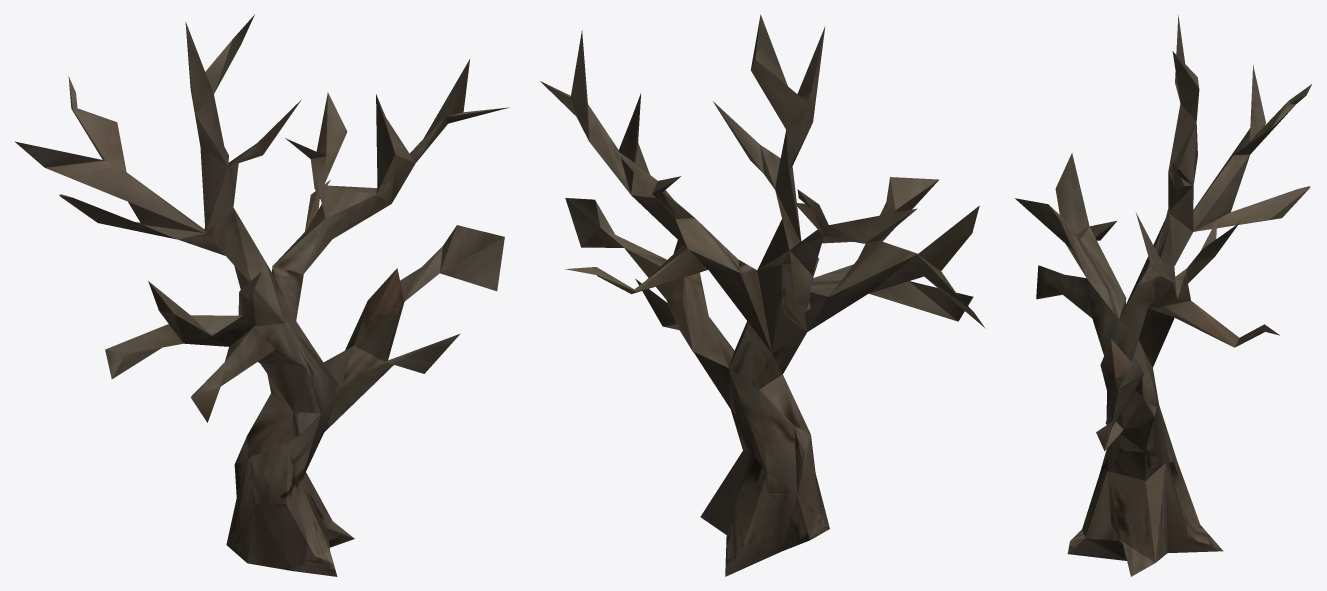
Rendered from bg_swamp_dead_2_lod1.glb.
3 views of the same model, side by side, from view 1: azimuth 30°, elevation 25°; view 2: azimuth 150°, elevation 25°; view 3: azimuth 270°, elevation 25° (orthographic). The views are drawn at different scales.
Visible parts, largest first — view 1: body; view 2: body; view 3: body.
Part boxes in pixels (box(x1,y1,x2,y2)): body: box(15, 14, 509, 576); body: box(540, 14, 985, 576); body: box(1014, 15, 1311, 576).
Size of the model in its own units: 4 by 4.77 by 2.56.
1 material, 1 textured.
